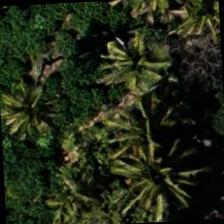Kelapa_Sawit: (92, 11, 188, 106), (108, 126, 204, 220), (110, 132, 204, 223), (0, 63, 77, 158), (158, 0, 221, 58)
